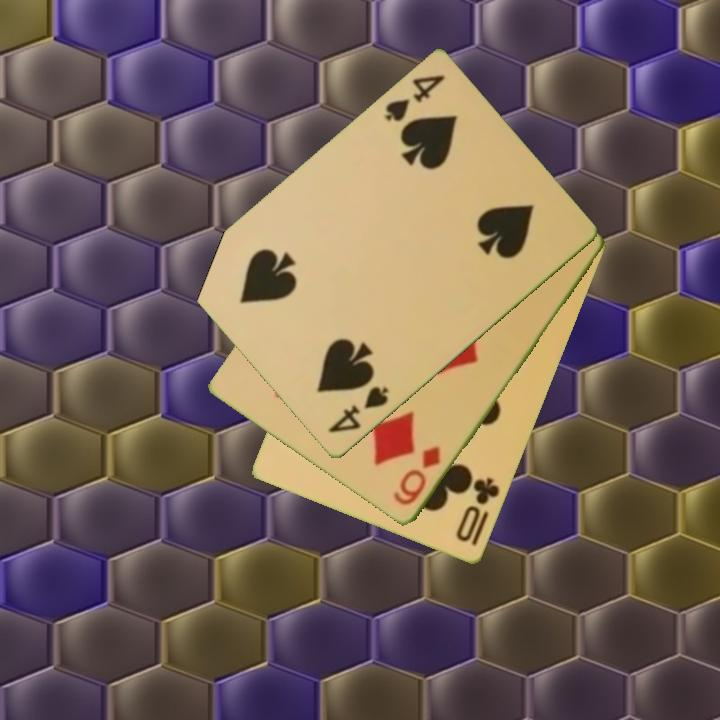10c: (452, 474, 503, 546)
4s: (324, 383, 392, 437), (382, 71, 448, 125)
6d: (389, 443, 444, 509)
